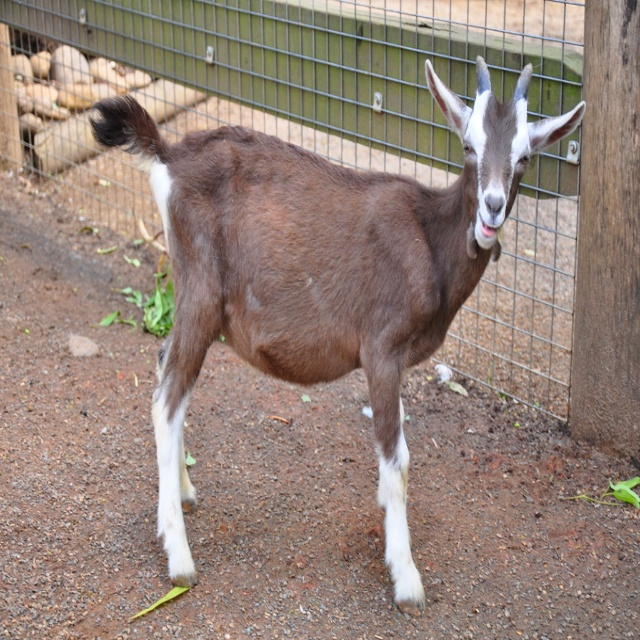Goat: (89, 55, 479, 617)
